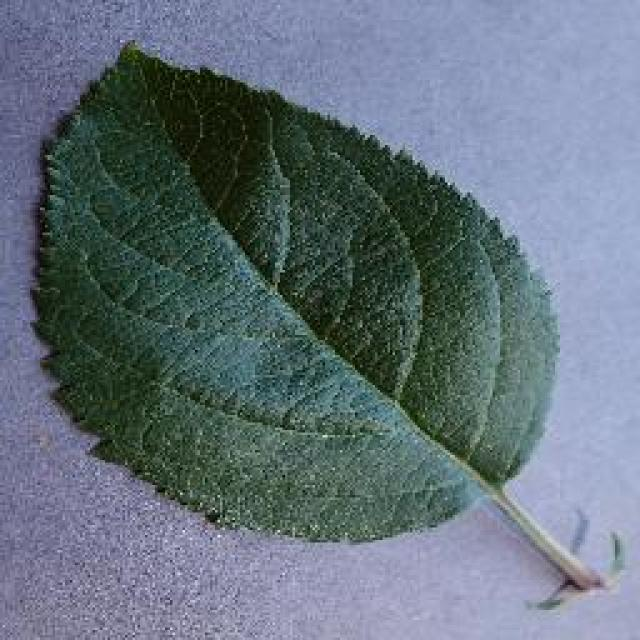apple healthy: (25, 35, 620, 603)
